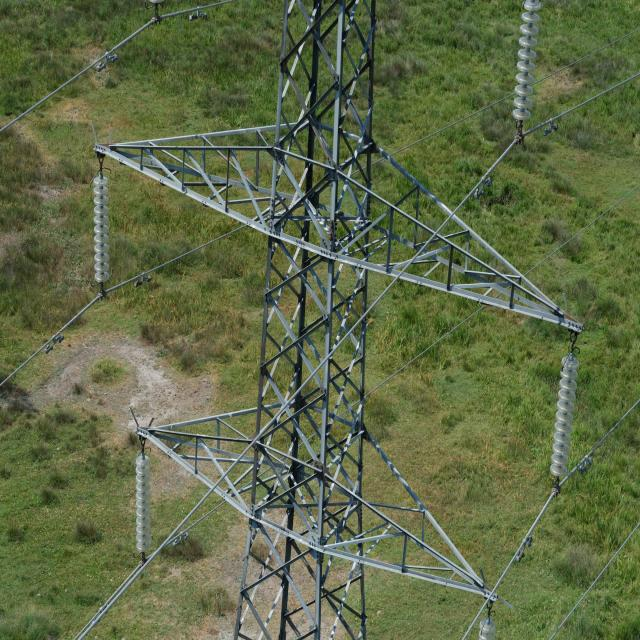voltage_line: (146, 156, 494, 638)
